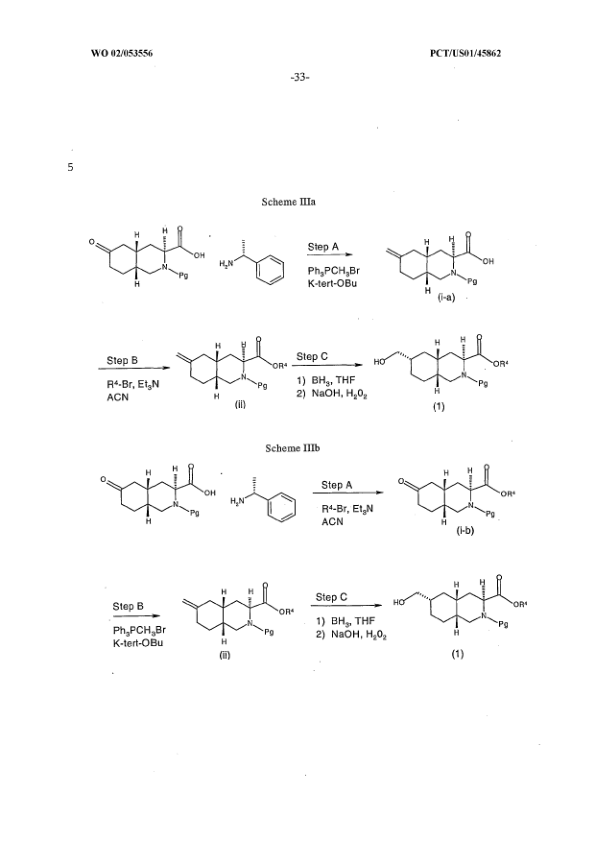compound-structure: (78, 219, 288, 313), (82, 459, 300, 543), (389, 570, 542, 668), (369, 333, 526, 413), (373, 223, 508, 310), (384, 457, 520, 542), (173, 574, 293, 668), (171, 331, 292, 416)
reaction: (50, 175, 582, 696)
reaction-arrow: (303, 584, 389, 654), (307, 468, 383, 542), (92, 342, 169, 405), (104, 589, 169, 659), (297, 235, 364, 301), (298, 343, 367, 406)
